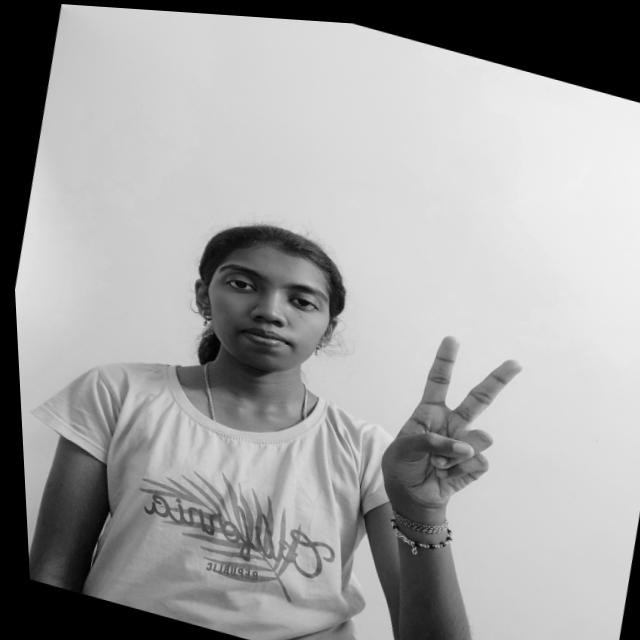Victory: (350, 305, 540, 544)
